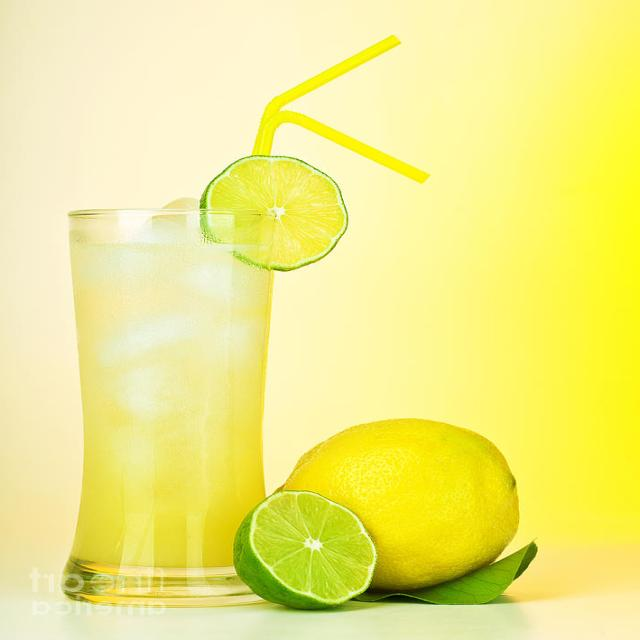lemon: (216, 393, 561, 619), (182, 144, 369, 281), (236, 477, 399, 602)
